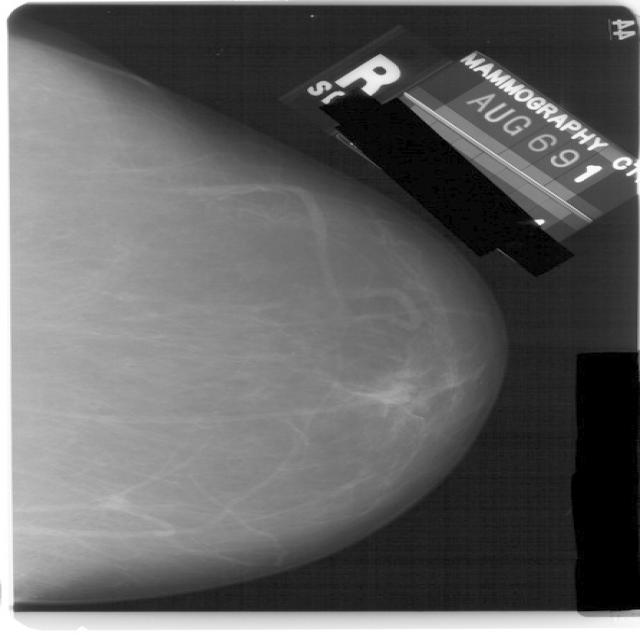tumour: (100, 494, 136, 511)
